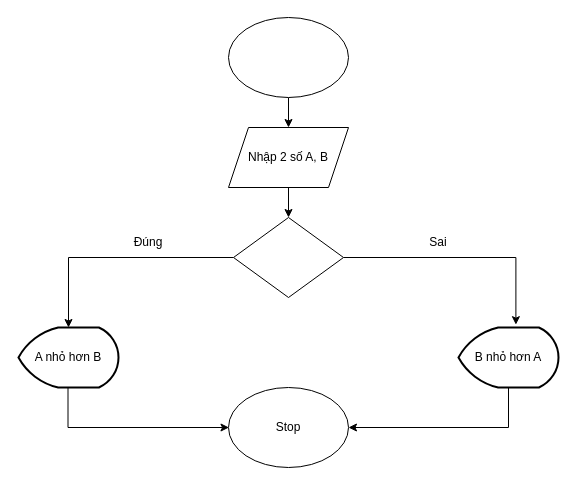
Some shapes in this 576 by 485 pixel diagram are drawn without their labels. Each missing label, with the centre of its shape:
A < B ?: point 288,257
Start: point 288,57
